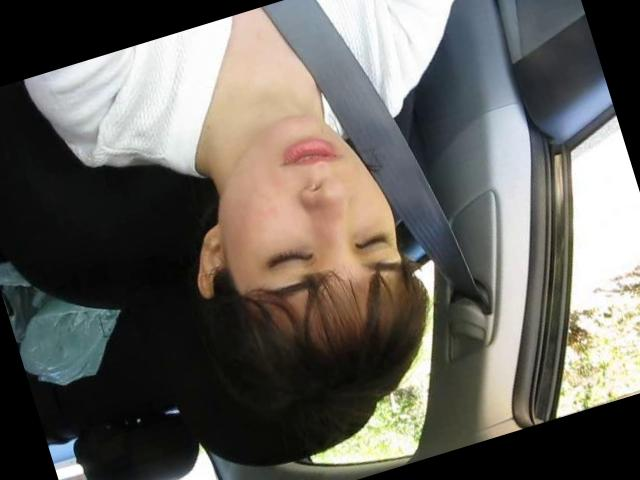eye_closed: (258, 236, 323, 282), (347, 219, 399, 262)
face: (208, 93, 414, 307)
